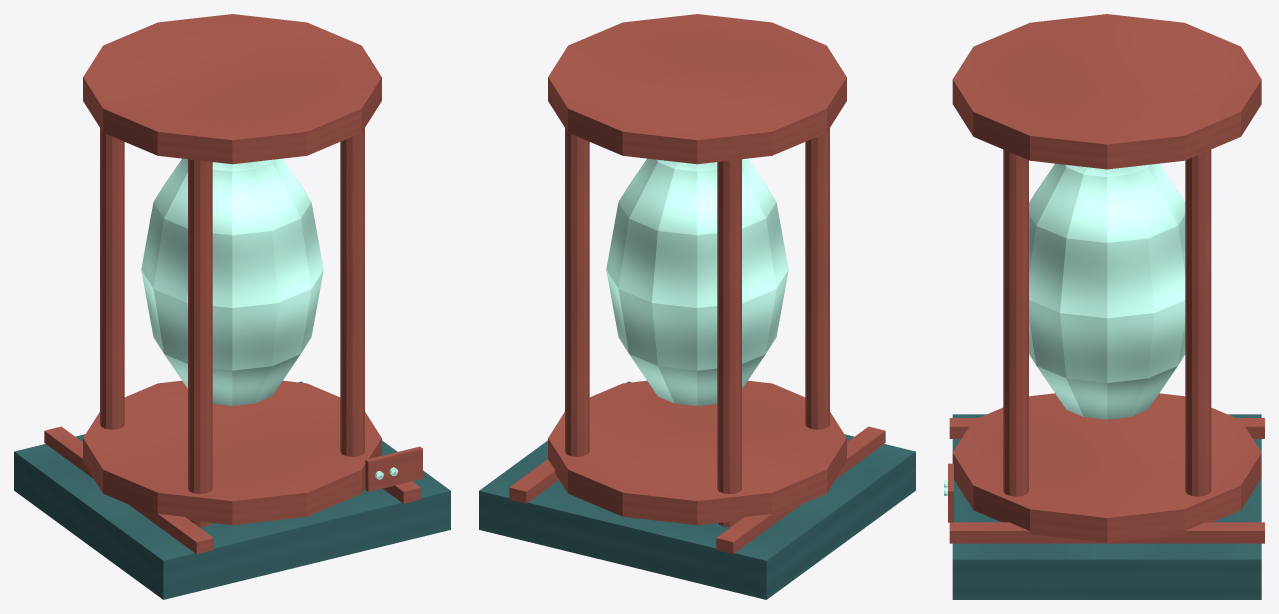
The model's file is atlas100-s033-a01.glb.
3 views of the same model, side by side, from view 1: azimuth 30°, elevation 25°; view 2: azimuth 150°, elevation 25°; view 3: azimuth 270°, elevation 25° (orthographic). The views are drawn at different scales.
Visible parts, largest first — view 1: atlas100-s033-a01:part-004, atlas100-s033-a01:part-013, atlas100-s033-a01:part-003, atlas100-s033-a01:part-000, atlas100-s033-a01:part-007, atlas100-s033-a01:part-005, atlas100-s033-a01:part-009, atlas100-s033-a01:part-001, atlas100-s033-a01:part-014; view 2: atlas100-s033-a01:part-004, atlas100-s033-a01:part-013, atlas100-s033-a01:part-003, atlas100-s033-a01:part-000, atlas100-s033-a01:part-009, atlas100-s033-a01:part-011, atlas100-s033-a01:part-007, atlas100-s033-a01:part-001, atlas100-s033-a01:part-002; view 3: atlas100-s033-a01:part-004, atlas100-s033-a01:part-013, atlas100-s033-a01:part-003, atlas100-s033-a01:part-000, atlas100-s033-a01:part-011, atlas100-s033-a01:part-005, atlas100-s033-a01:part-002, atlas100-s033-a01:part-001.
Boxes of the visible parts, <box> form: atlas100-s033-a01:part-004: <box>83,14,381,164</box>; atlas100-s033-a01:part-013: <box>141,158,323,405</box>; atlas100-s033-a01:part-003: <box>83,380,381,525</box>; atlas100-s033-a01:part-000: <box>14,381,450,599</box>; atlas100-s033-a01:part-007: <box>188,159,212,527</box>; atlas100-s033-a01:part-005: <box>340,128,364,456</box>; atlas100-s033-a01:part-009: <box>100,128,124,429</box>; atlas100-s033-a01:part-001: <box>44,426,213,554</box>; atlas100-s033-a01:part-014: <box>365,446,422,491</box>; atlas100-s033-a01:part-004: <box>548,14,846,164</box>; atlas100-s033-a01:part-013: <box>606,158,788,405</box>; atlas100-s033-a01:part-003: <box>548,380,846,525</box>; atlas100-s033-a01:part-000: <box>479,381,915,599</box>; atlas100-s033-a01:part-009: <box>717,159,741,527</box>; atlas100-s033-a01:part-011: <box>565,128,589,456</box>; atlas100-s033-a01:part-007: <box>805,128,829,429</box>; atlas100-s033-a01:part-001: <box>716,426,885,554</box>; atlas100-s033-a01:part-002: <box>509,459,558,503</box>; atlas100-s033-a01:part-004: <box>952,14,1261,169</box>; atlas100-s033-a01:part-013: <box>1029,163,1185,419</box>; atlas100-s033-a01:part-003: <box>952,393,1261,542</box>; atlas100-s033-a01:part-000: <box>952,414,1261,599</box>; atlas100-s033-a01:part-011: <box>1185,149,1211,496</box>; atlas100-s033-a01:part-005: <box>1003,149,1028,496</box>; atlas100-s033-a01:part-002: <box>949,522,1264,543</box>; atlas100-s033-a01:part-001: <box>949,418,1264,438</box>.
Bounding box in the file's own units: 2 × 2.88 × 1.87.
Materials: 3 (3 with a texture image).
